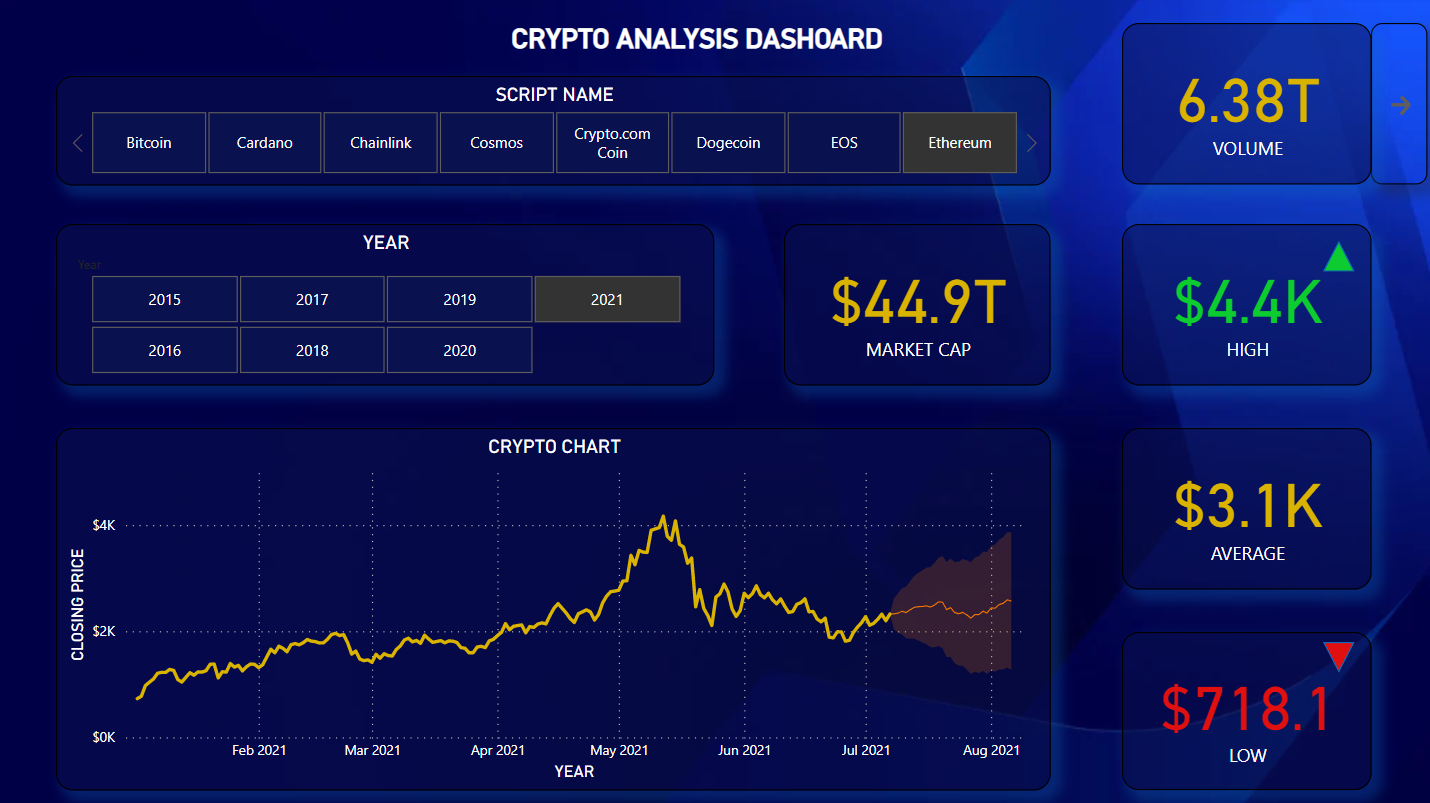

This screenshot's page, from the dashboard's own definition file:
{"tool":"powerbi","page":{"name":"Page 1","canvas":[1280,720],"ordinal":0},"visuals":[{"type":"slicer","title":"SCRIPT NAME","fields":{"Values":["CryptoData.Name"]},"box":[57.6,70,881.2,96.5],"z":0},{"type":"slicer","title":"YEAR","fields":{"Values":["CryptoData.Year"]},"box":[57.4,201.3,582.6,143],"z":1000},{"type":"card","fields":{"Values":["Max(CryptoData.High)"]},"box":[1001.8,201.3,220.8,143],"z":2000},{"type":"card","fields":{"Values":["Min(CryptoData.Low)"]},"box":[1001.8,562.2,220.8,140.1],"z":3000},{"type":"card","fields":{"Values":["Avg(CryptoData.Average)"]},"box":[1001.8,381.3,220.8,143],"z":4000},{"type":"card","fields":{"Values":["Sum(CryptoData.Marketcap)"]},"box":[702.2,201.3,236.4,143],"z":5000},{"type":"actionButton","box":[1222.1,23,49.6,143.5],"z":5001},{"type":"lineChart","title":"CRYPTO CHART","fields":{"Category":["CryptoData.Date"],"Y":["Sum(CryptoData.Close)"]},"box":[57.4,381.3,881.2,321],"z":6000},{"type":"card","fields":{"Values":["Sum(CryptoData.Volume)"]},"box":[1001.8,23.3,220.8,143],"z":7000},{"type":"shape","box":[1179.8,215.9,28.2,27.2],"z":8000},{"type":"shape","box":[1179.8,570.9,28.2,27.2],"z":9000},{"type":"textbox","title":"CRYPTO ANALYSIS DASHOARD","box":[451.7,23,347.2,31],"z":9001}]}

Visuals, with their boxes in screenshot pixels (x1, y1, x2, y2), scaled from the page's 1280x720 canvas onto the 1430x803 screenshot:
"SCRIPT NAME" slicer: rect(64, 78, 1049, 186)
"YEAR" slicer: rect(64, 225, 715, 384)
card - Max(CryptoData.High): rect(1119, 225, 1366, 384)
card - Min(CryptoData.Low): rect(1119, 627, 1366, 783)
card - Avg(CryptoData.Average): rect(1119, 425, 1366, 585)
card - Sum(CryptoData.Marketcap): rect(784, 225, 1049, 384)
actionButton: rect(1365, 26, 1421, 186)
"CRYPTO CHART" lineChart: rect(64, 425, 1049, 783)
card - Sum(CryptoData.Volume): rect(1119, 26, 1366, 185)
shape: rect(1318, 241, 1350, 271)
shape: rect(1318, 637, 1350, 667)
"CRYPTO ANALYSIS DASHOARD" textbox: rect(505, 26, 893, 60)
